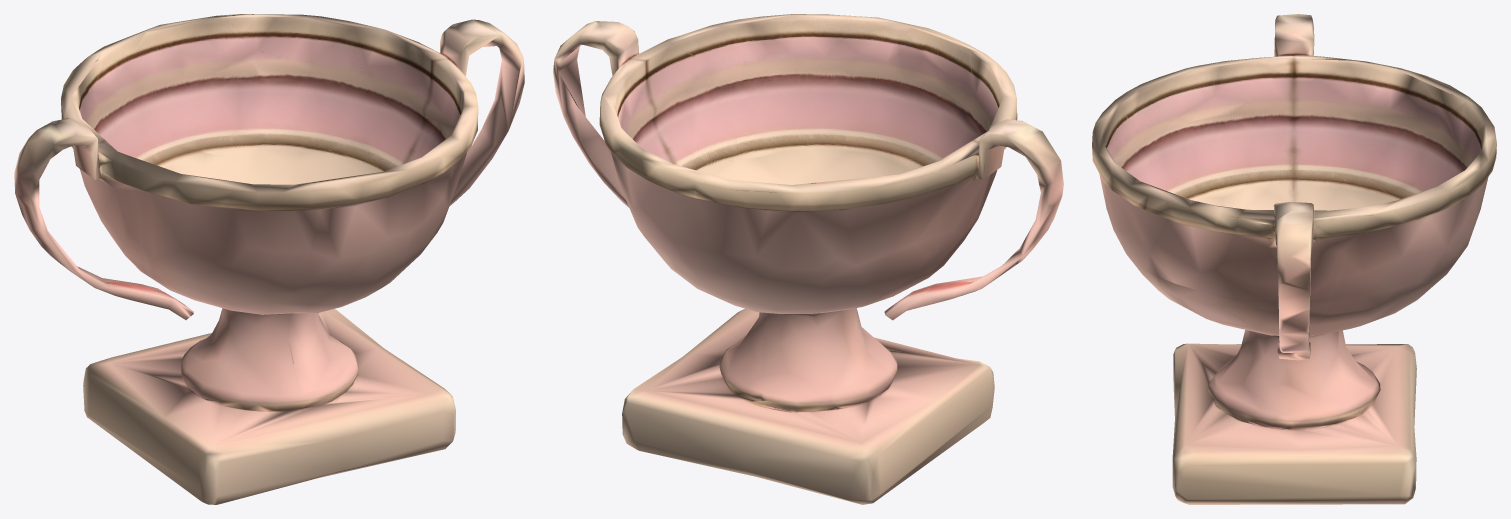
File: regr_trophy.fbx
3 views of the same model, side by side, from view 1: azimuth 30°, elevation 25°; view 2: azimuth 150°, elevation 25°; view 3: azimuth 270°, elevation 25° (orthographic). The views are drawn at different scales.
Parts seen in each view (by area): view 1: Mesh1.0; view 2: Mesh1.0; view 3: Mesh1.0.
Boxes of the visible parts, x1,y1,x2,y2 form: Mesh1.0: (14, 14, 524, 504); Mesh1.0: (553, 14, 1063, 504); Mesh1.0: (1092, 14, 1496, 504).
Bounding box in the file's own units: 190 × 131 × 142.
Materials: 1 (1 with a texture image).
